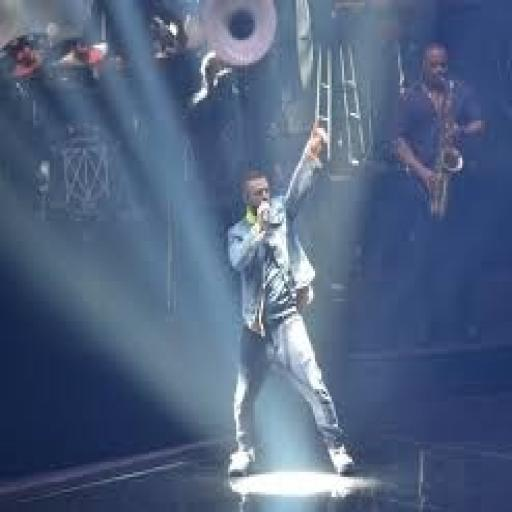dancing: (220, 120, 360, 482)
